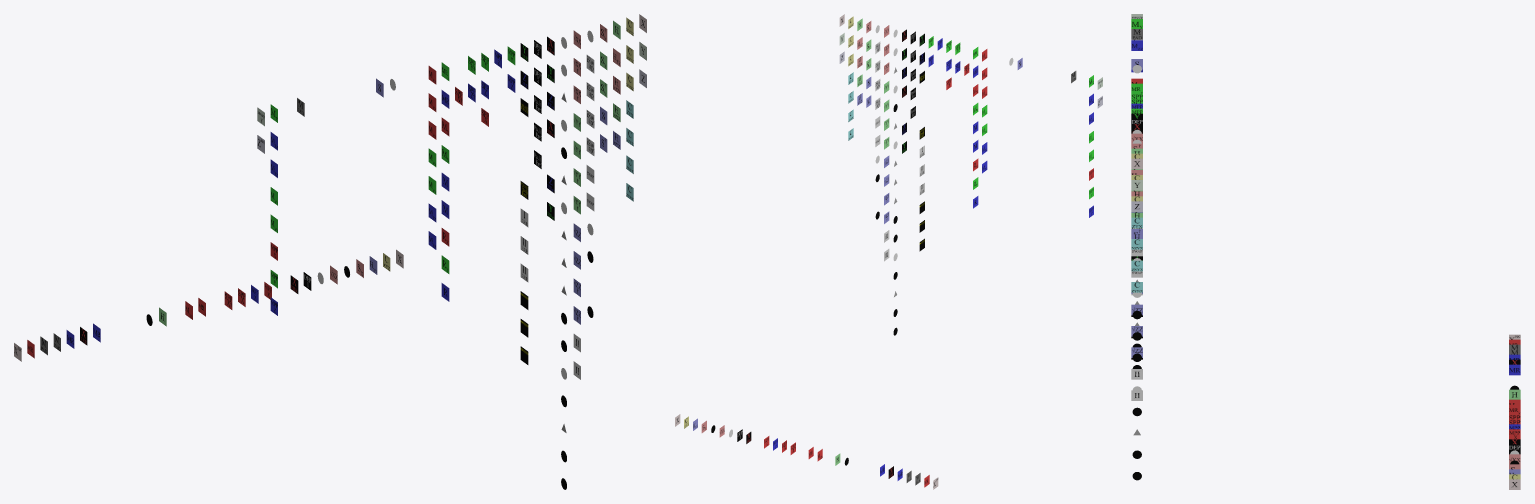
File: circuit_all_ops_3d.gltf
The picture shows the model from 3 angles, left to right: view 1: azimuth 30°, elevation 25°; view 2: azimuth 150°, elevation 25°; view 3: azimuth 270°, elevation 25°; orthographic projection. The views are drawn at different scales.
Size of the model in its own units: 29 by 32.9 by 33.
Materials: 6 (1 with a texture image).
